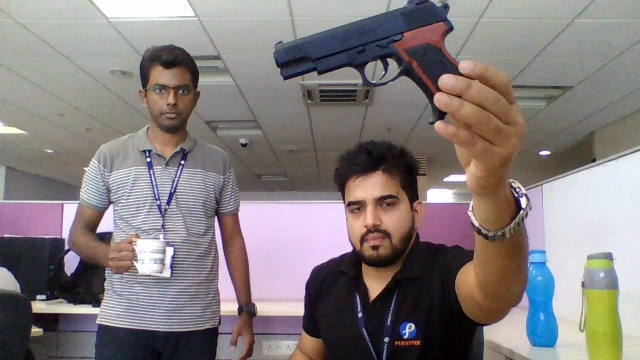gun: (273, 1, 456, 72)
